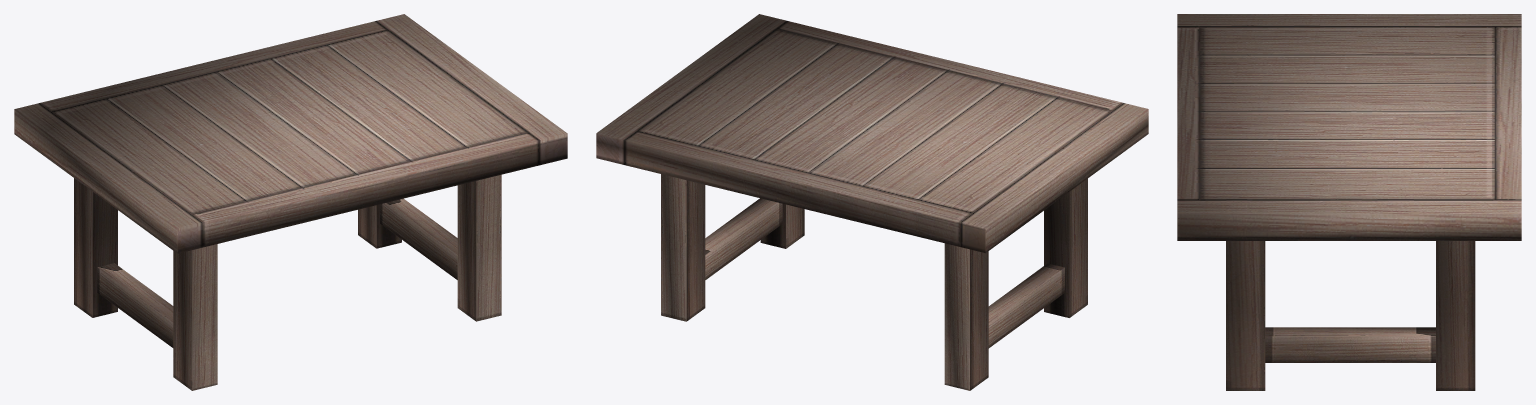
The model's file is table3.glb.
The picture shows the model from 3 angles, left to right: view 1: azimuth 30°, elevation 25°; view 2: azimuth 150°, elevation 25°; view 3: azimuth 270°, elevation 25°; orthographic projection. The views are drawn at different scales.
Parts seen in each view (by area): view 1: Box09; view 2: Box09; view 3: Box09.
Part boxes in pixels (x1,y1,x2,y2): Box09: (14,14,567,390); Box09: (596,14,1148,390); Box09: (1177,14,1521,390).
Size of the model in its own units: 48.21 by 22.22 by 34.96.
1 material, 1 textured.
